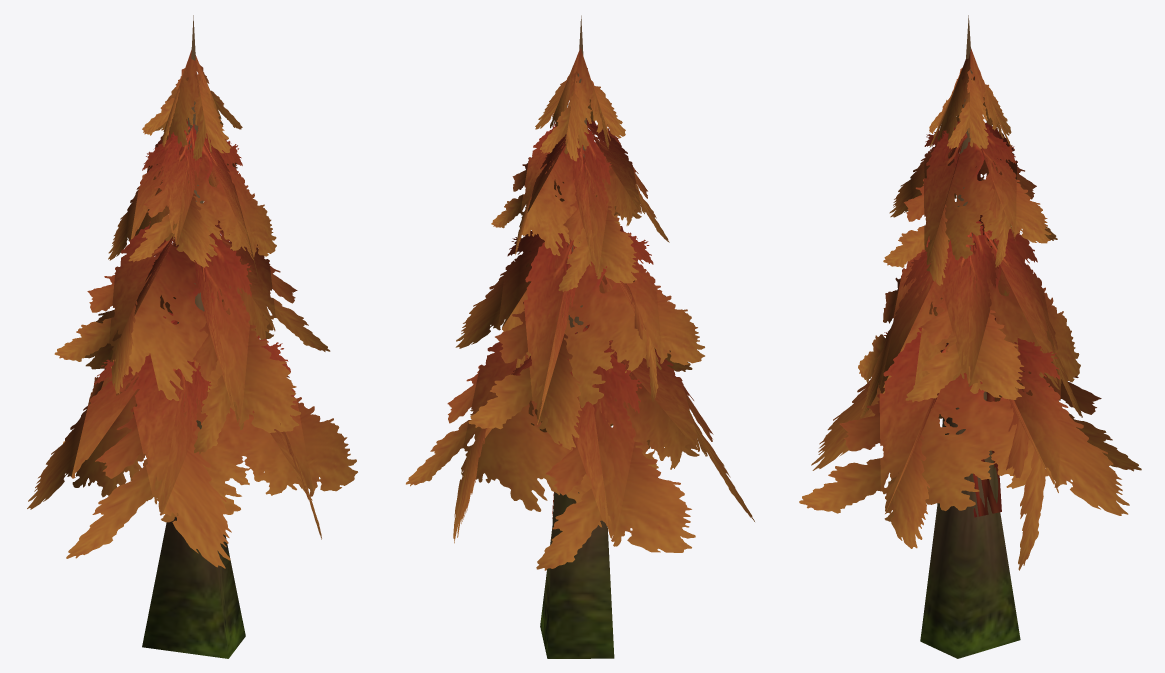
The model's file is zw_shu_tasong_03.FBX.
3 renders of one model, left to right at view 1: azimuth 30°, elevation 25°; view 2: azimuth 150°, elevation 25°; view 3: azimuth 270°, elevation 25°, orthographic.
Visible parts, largest first — view 1: zw_shu_tasong_03; view 2: zw_shu_tasong_03; view 3: zw_shu_tasong_03.
Boxes of the visible parts, left/top/right/bottom form: zw_shu_tasong_03: left=27, top=15, right=357, bottom=658; zw_shu_tasong_03: left=406, top=15, right=754, bottom=658; zw_shu_tasong_03: left=799, top=15, right=1141, bottom=658.
Bounding box in the file's own units: 670 × 1271 × 667.
